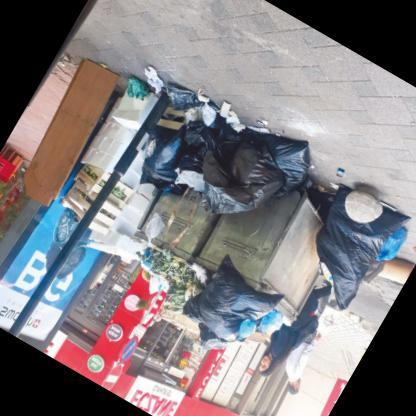Garbage: (133, 74, 323, 254), (190, 166, 352, 327), (286, 201, 412, 328), (171, 247, 291, 368)
